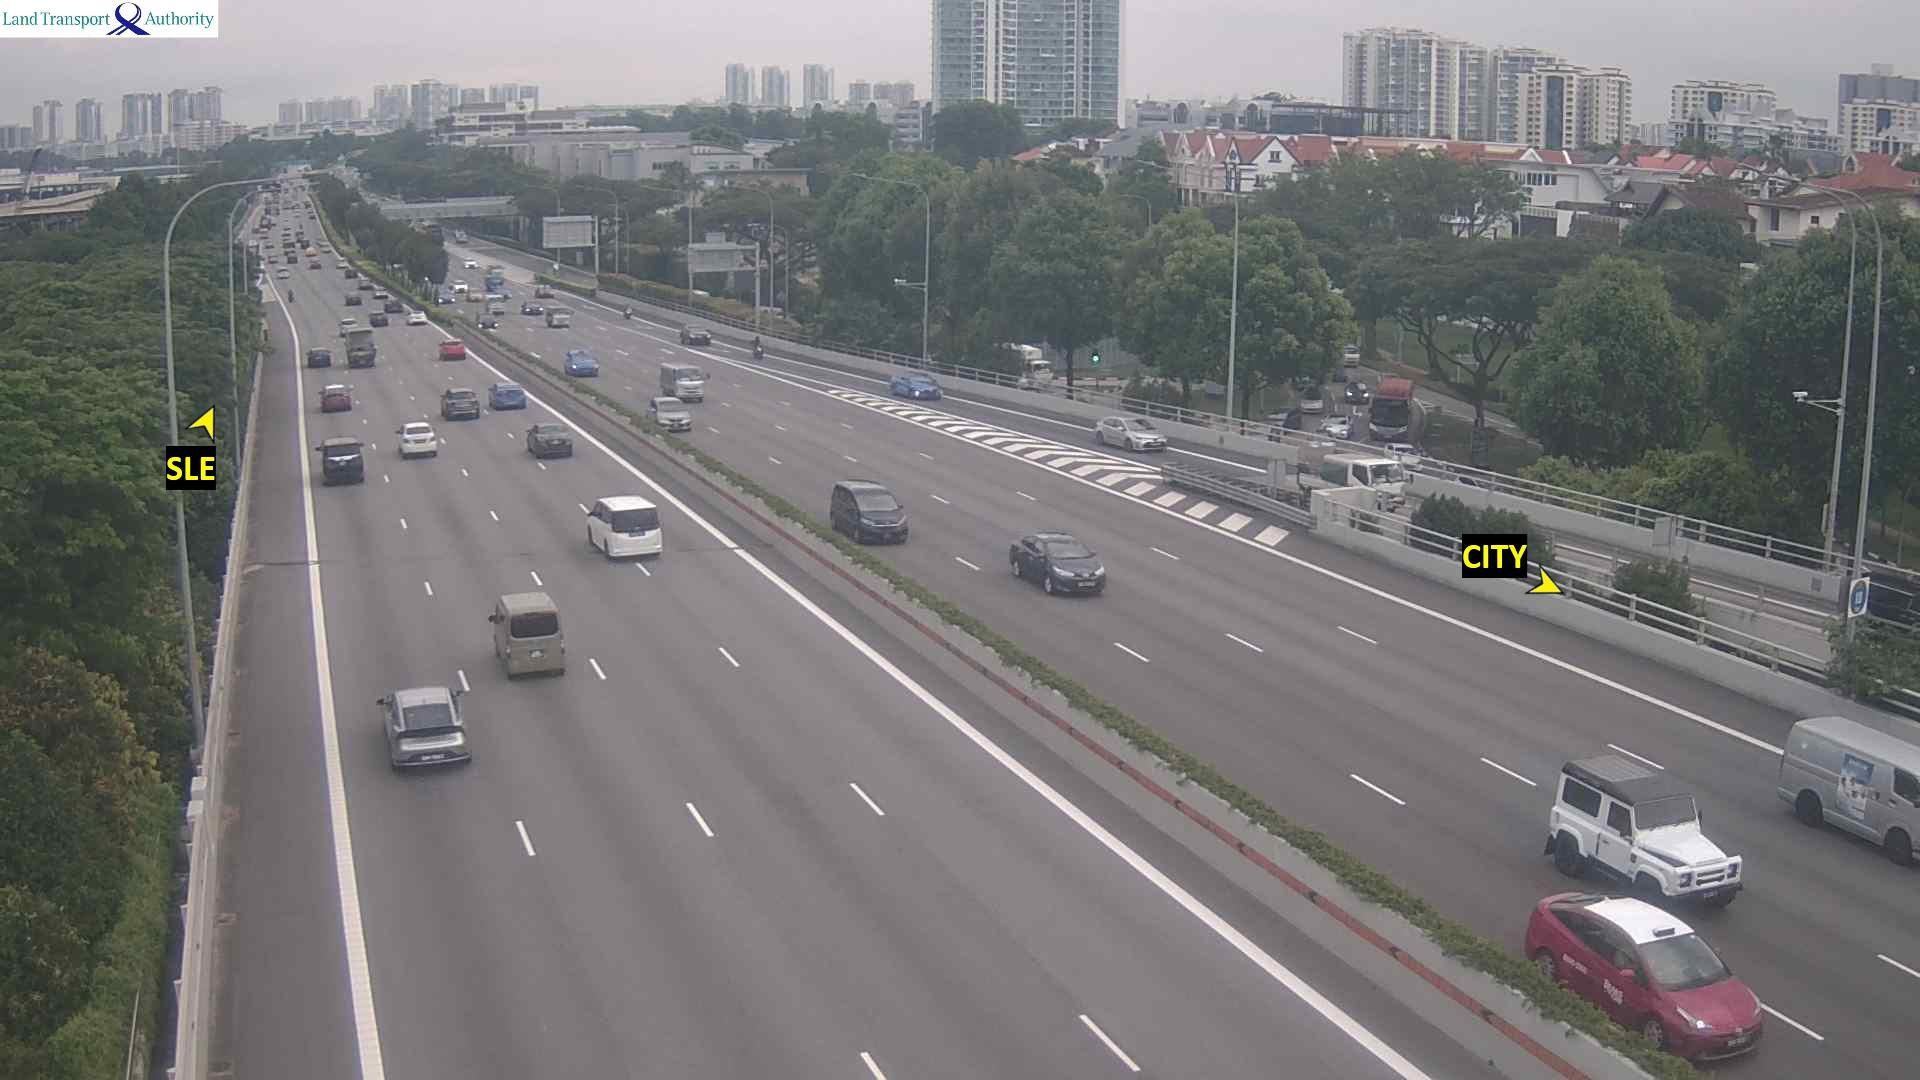cars: (1523, 889, 1763, 1063), (1543, 747, 1743, 909), (1775, 714, 1919, 866), (375, 684, 470, 770), (487, 590, 566, 678), (1008, 530, 1106, 596), (577, 494, 662, 559), (829, 479, 908, 544), (1093, 415, 1167, 452), (314, 436, 365, 485), (659, 362, 706, 401), (525, 422, 573, 458), (395, 420, 438, 457), (648, 394, 691, 431), (888, 372, 941, 400), (440, 386, 479, 419), (487, 379, 526, 409), (319, 382, 353, 411), (563, 348, 598, 376), (1319, 413, 1353, 438), (1298, 384, 1324, 412), (678, 324, 711, 346), (485, 293, 510, 319), (474, 308, 501, 332), (1343, 379, 1371, 402), (437, 338, 465, 359), (519, 298, 546, 319), (338, 317, 362, 340), (545, 307, 572, 327), (306, 347, 331, 367), (535, 283, 557, 302), (344, 289, 365, 308), (1342, 343, 1360, 365), (435, 290, 458, 307), (450, 278, 473, 295), (384, 297, 405, 315), (464, 286, 485, 302), (406, 309, 427, 324), (368, 310, 387, 326), (453, 229, 472, 244), (371, 284, 389, 299), (358, 276, 374, 292), (344, 266, 360, 282), (307, 255, 324, 270), (317, 240, 334, 255), (462, 256, 480, 270), (276, 266, 291, 281), (335, 255, 350, 269), (299, 236, 313, 251), (258, 227, 271, 242), (304, 247, 320, 259), (286, 252, 300, 265), (267, 251, 280, 265), (294, 229, 307, 243), (264, 238, 277, 250), (279, 230, 292, 241)
motorcycle: (749, 333, 767, 364), (621, 299, 636, 323), (286, 287, 298, 307)
trucks: (1319, 453, 1407, 511), (1367, 375, 1413, 441), (345, 326, 379, 367), (421, 220, 449, 240), (281, 237, 300, 258), (484, 271, 505, 290), (487, 261, 507, 280)
